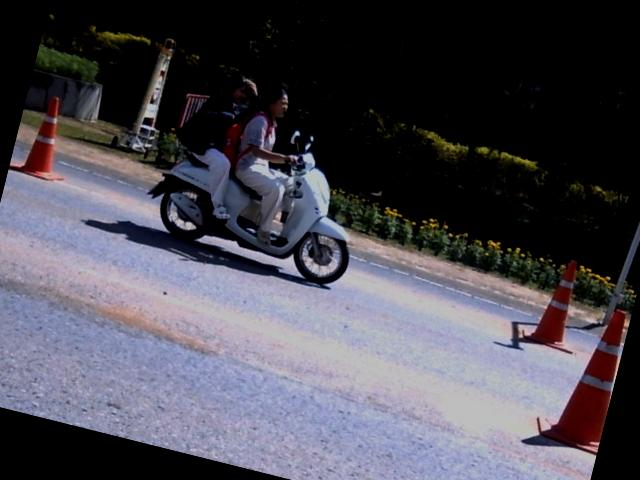motor: (148, 152, 347, 284)
no-helmet: (257, 82, 297, 123), (220, 73, 251, 104)
person: (177, 75, 257, 223), (234, 86, 296, 244)
